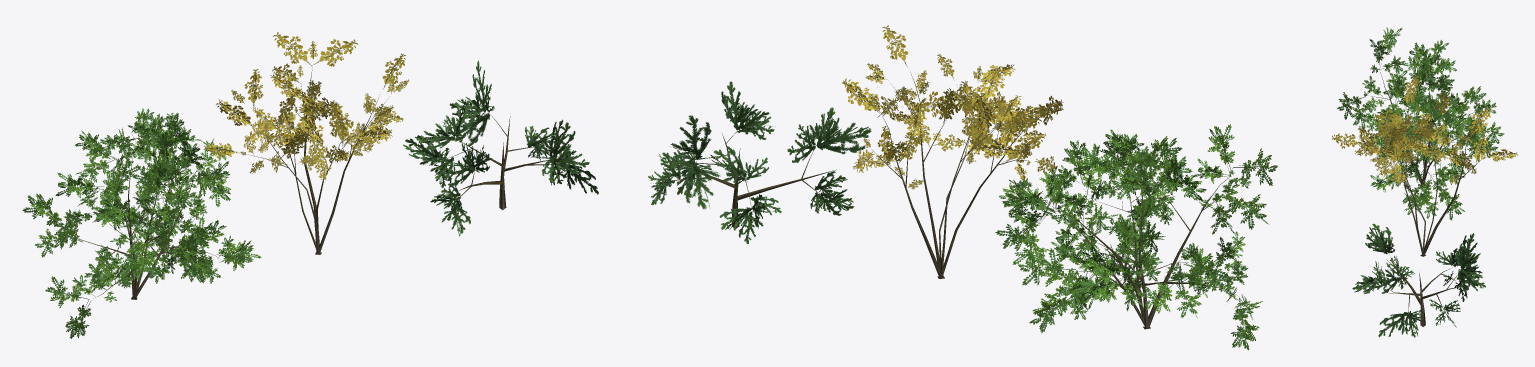
Rendered from bushes_real.glb.
3 renders of one model, left to right at view 1: azimuth 30°, elevation 25°; view 2: azimuth 150°, elevation 25°; view 3: azimuth 270°, elevation 25°, orthographic. The views are drawn at different scales.
Parts seen in each view (by area): view 1: bush_a, bush_b, bush_c; view 2: bush_a, bush_b, bush_c; view 3: bush_a, bush_b, bush_c.
Boxes of the visible parts, <box> form: bush_a: <box>22,108,261,338</box>; bush_b: <box>203,32,409,254</box>; bush_c: <box>403,60,598,236</box>; bush_a: <box>995,124,1277,350</box>; bush_b: <box>842,25,1063,278</box>; bush_c: <box>648,81,871,243</box>; bush_a: <box>1337,27,1504,220</box>; bush_b: <box>1332,75,1518,256</box>; bush_c: <box>1352,223,1485,337</box>.
Bounding box in the file's own units: 91.2 × 34.7 × 35.28.
4 materials, 4 textured.
